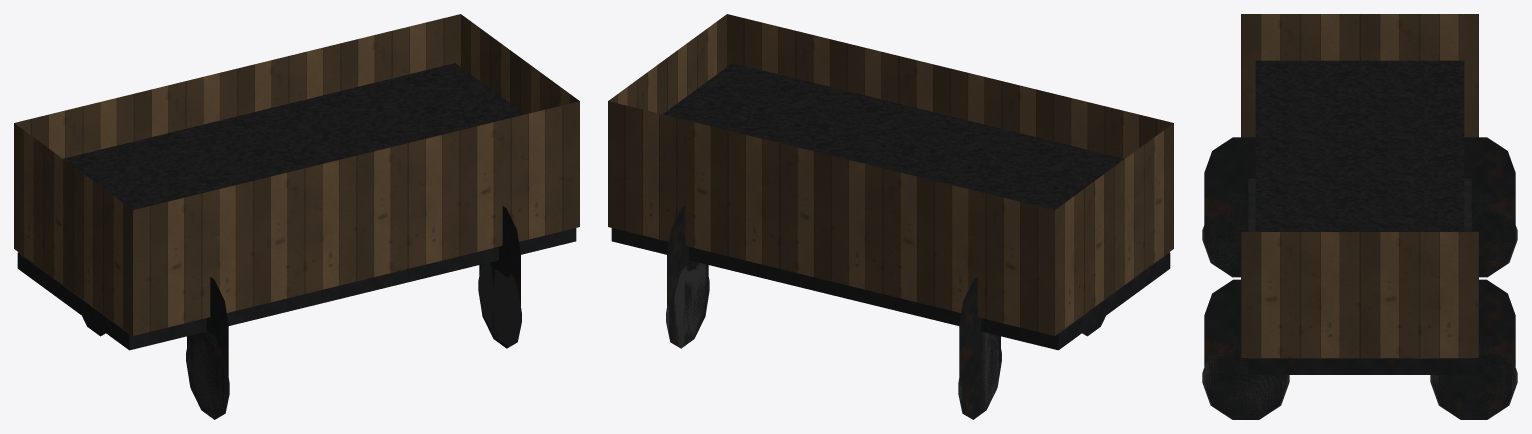
The model's file is A_wagon.glb.
The picture shows the model from 3 angles, left to right: view 1: azimuth 30°, elevation 25°; view 2: azimuth 150°, elevation 25°; view 3: azimuth 270°, elevation 25°; orthographic projection.
Parts seen in each view (by area): view 1: A_wagon; view 2: A_wagon; view 3: A_wagon.
Boxes of the visible parts, x1,y1,x2,y2 form: A_wagon: (14, 14, 579, 419); A_wagon: (608, 14, 1173, 419); A_wagon: (1202, 14, 1517, 419).
Size of the model in its own units: 5.2 by 2.51 by 3.18.
Materials: 4 (3 with a texture image).
